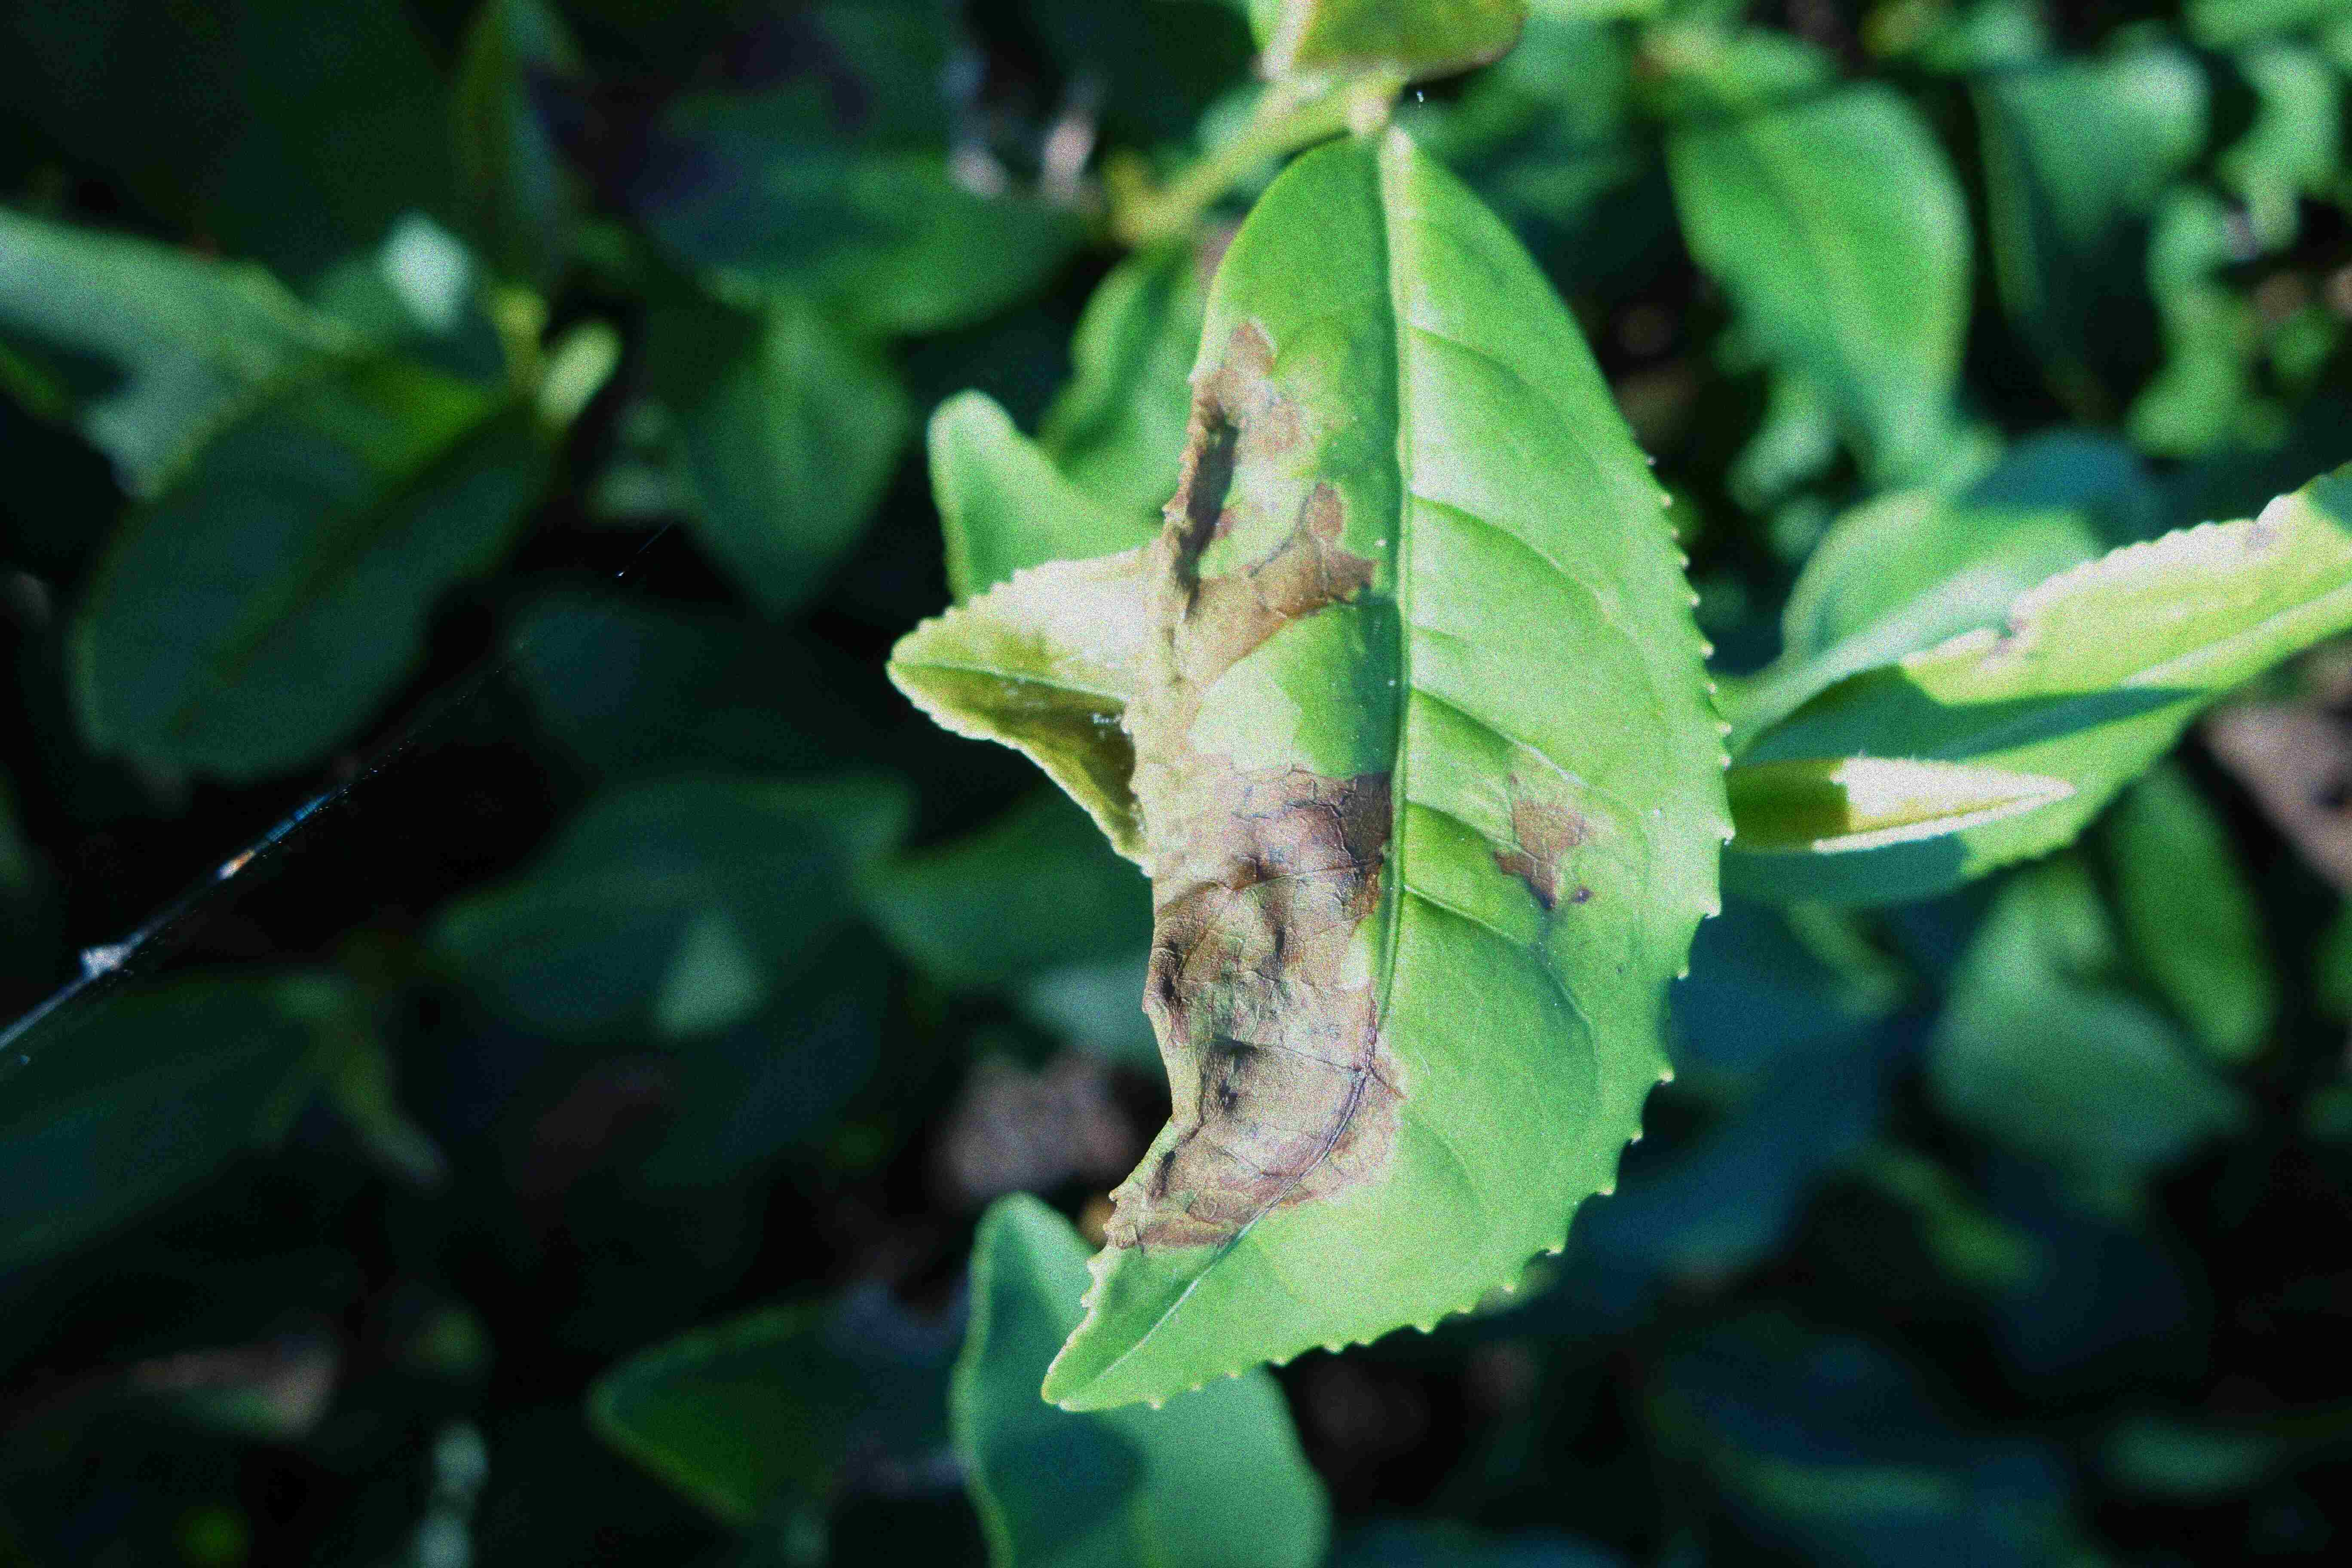tanju_high: (1039, 117, 1734, 1410)
